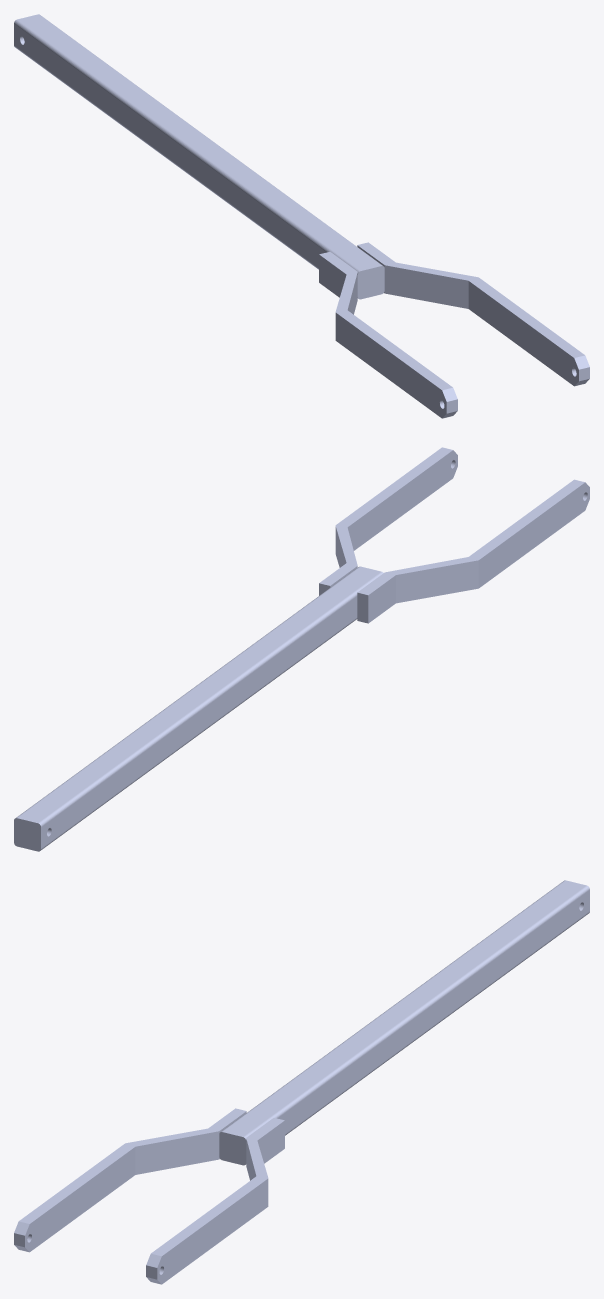
File: outer_pitch_top.obj
The picture shows the model from 3 angles, top to bottom: view 1: azimuth 30°, elevation 25°; view 2: azimuth 150°, elevation 25°; view 3: azimuth 330°, elevation 25°; orthographic projection.
Visible parts, largest first — view 1: ActorShape0_0-Mesh; view 2: ActorShape0_0-Mesh; view 3: ActorShape0_0-Mesh.
Boxes of the visible parts, x1,y1,x2,y2 form: ActorShape0_0-Mesh: (14, 14, 589, 418); ActorShape0_0-Mesh: (14, 447, 589, 851); ActorShape0_0-Mesh: (14, 880, 589, 1284).
Bounding box in the file's own units: 0.09 × 0.017 × 0.534.
